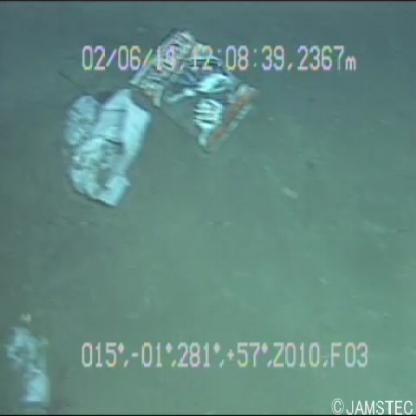Rác: (119, 22, 262, 168), (45, 84, 153, 204)
